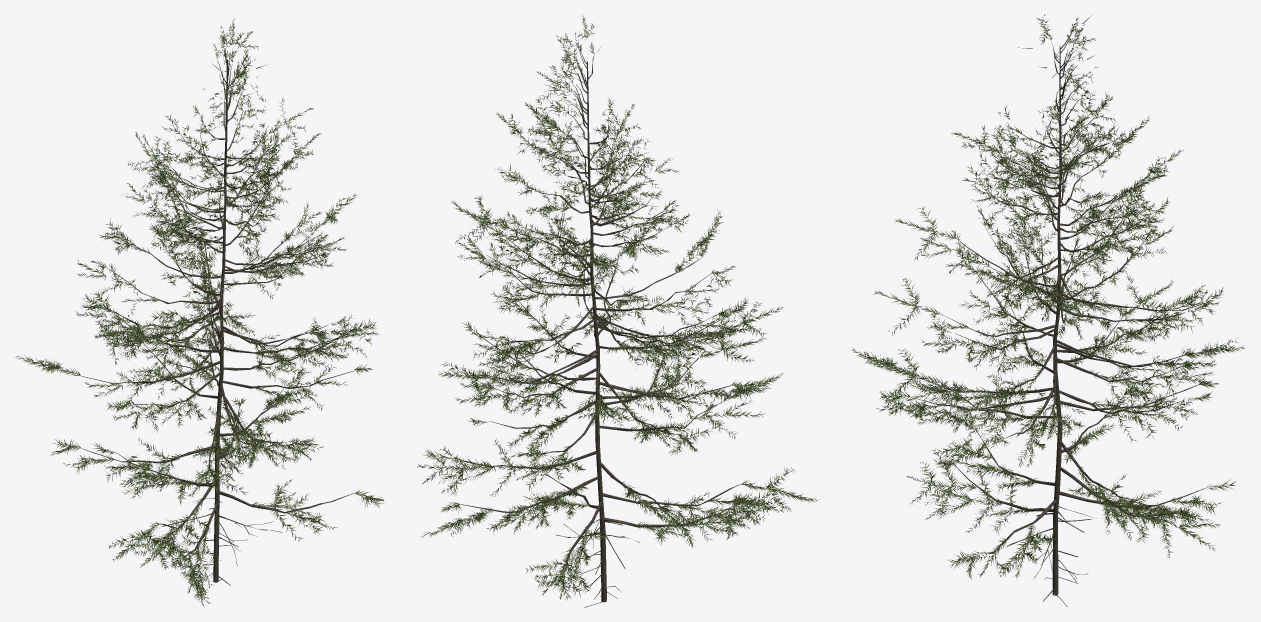
File: fir_medium_a_lod0.gltf
3 views of the same model, side by side, from view 1: azimuth 30°, elevation 25°; view 2: azimuth 150°, elevation 25°; view 3: azimuth 270°, elevation 25° (orthographic). The views are drawn at different scales.
Visible parts, largest first — view 1: fir_sapling_medium_a_LOD0.002, fir_sapling_medium_a_LOD0.001; view 2: fir_sapling_medium_a_LOD0.002, fir_sapling_medium_a_LOD0.001; view 3: fir_sapling_medium_a_LOD0.002, fir_sapling_medium_a_LOD0.001, fir_sapling_medium_a_LOD0.
Boxes of the visible parts, x1,y1,x2,y2 form: fir_sapling_medium_a_LOD0.002: [15, 18, 384, 606]; fir_sapling_medium_a_LOD0.001: [81, 43, 353, 582]; fir_sapling_medium_a_LOD0.002: [417, 15, 819, 600]; fir_sapling_medium_a_LOD0.001: [454, 51, 739, 602]; fir_sapling_medium_a_LOD0.002: [851, 14, 1244, 579]; fir_sapling_medium_a_LOD0.001: [911, 31, 1204, 595]; fir_sapling_medium_a_LOD0: [1000, 506, 1093, 606].
Bounding box in the file's own units: 4.91 × 8.65 × 5.2.
Materials: 3 (3 with a texture image).
